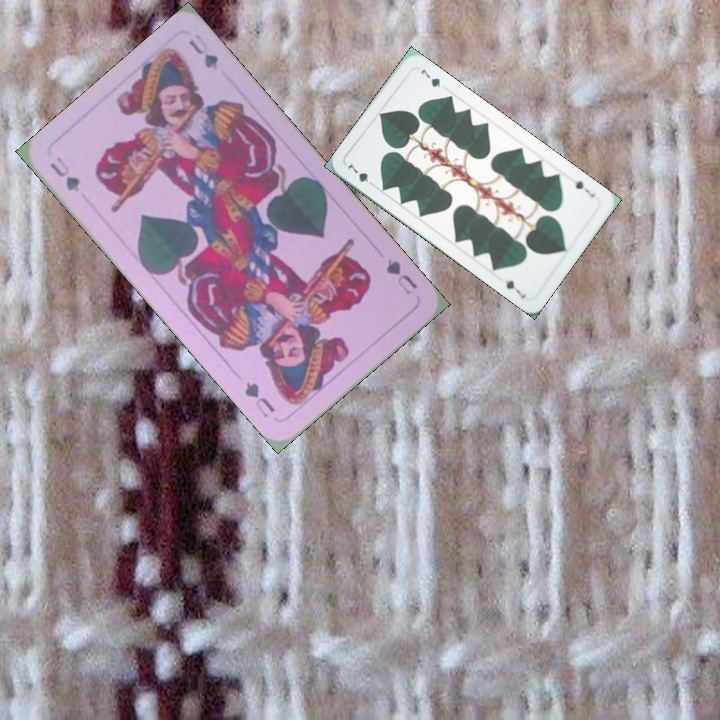G7: (343, 160, 378, 189), (571, 176, 597, 200)
GU: (382, 254, 420, 297), (46, 152, 83, 195)
